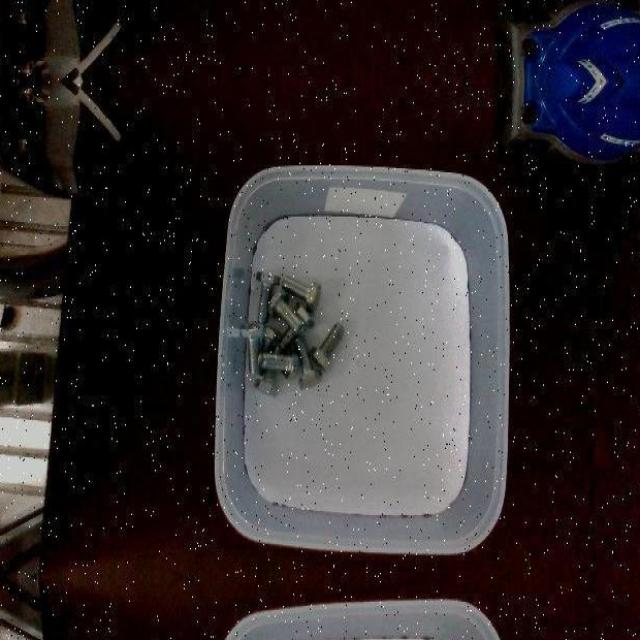screw: (310, 321, 344, 371), (268, 290, 304, 333), (281, 276, 321, 312), (258, 348, 299, 381), (256, 270, 280, 322)
